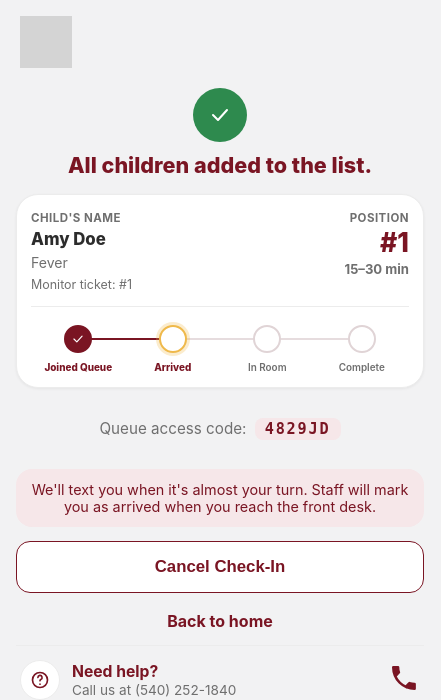
Scenario: StatusPage › cancels check-in and shows success message
The width and height of the screenshot is (441, 700).
Expected: the heading "All children added to the list." is shown, top-left (68, 152), bottom-right (372, 178)
Click the button "Cancel Check-In" at (220, 567), box top-left (16, 541), bottom-right (424, 593)
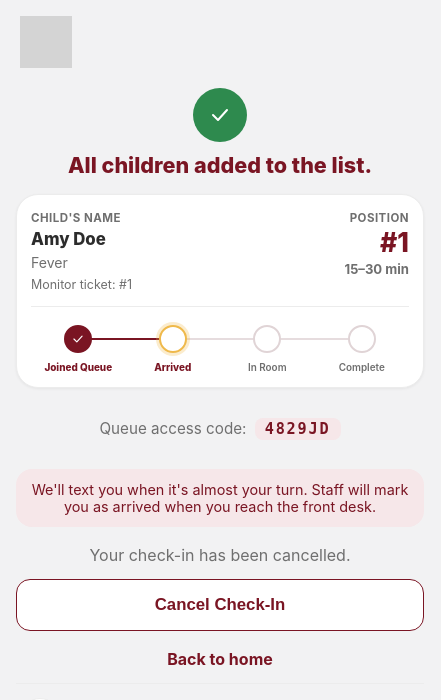
Now the text "Your check-in has been cancelled." is shown, box top-left (90, 545), bottom-right (350, 565)
